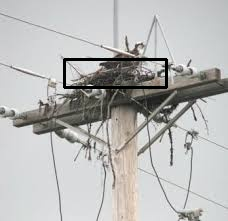bird-nest: (77, 72, 158, 94)
